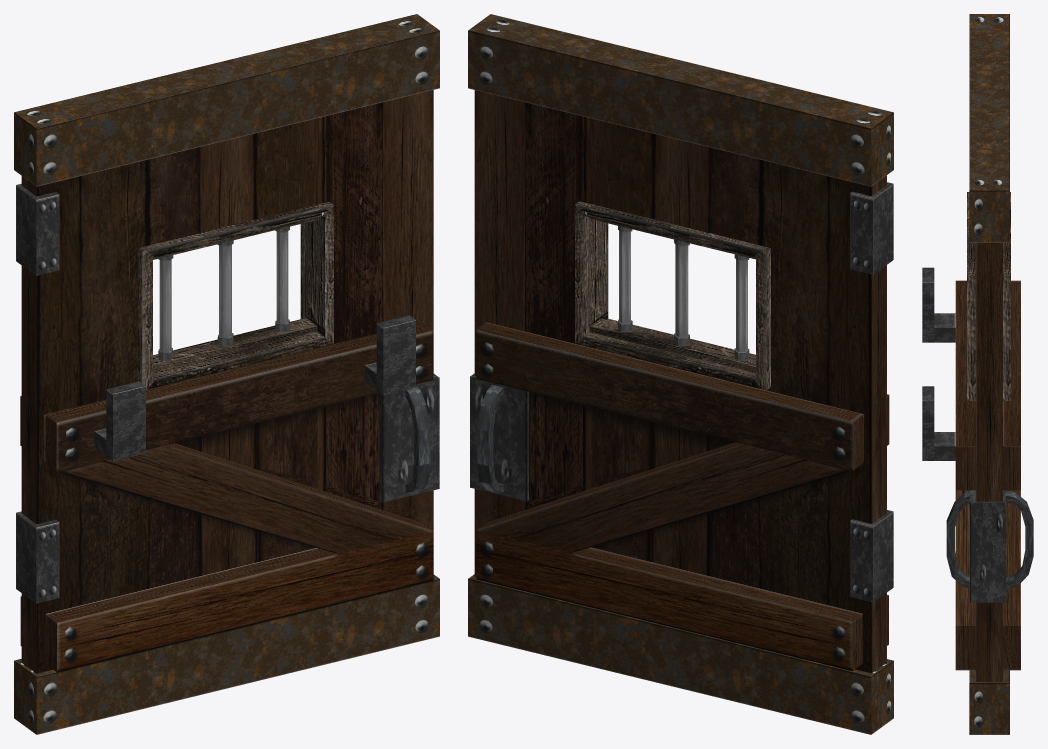
File: DungeonDoor.fbx
3 views of the same model, side by side, from view 1: azimuth 30°, elevation 25°; view 2: azimuth 150°, elevation 25°; view 3: azimuth 270°, elevation 25° (orthographic). The views are drawn at different scales.
Visible parts, largest first — view 1: DungeonDoor:Mesh; view 2: DungeonDoor:Mesh; view 3: DungeonDoor:Mesh.
Boxes of the visible parts, left/top/right/bottom form: DungeonDoor:Mesh: left=14, top=14, right=439, bottom=734; DungeonDoor:Mesh: left=468, top=14, right=893, bottom=734; DungeonDoor:Mesh: left=922, top=14, right=1033, bottom=734.
Size of the model in its own units: 1.74 by 2.49 by 0.4621.
